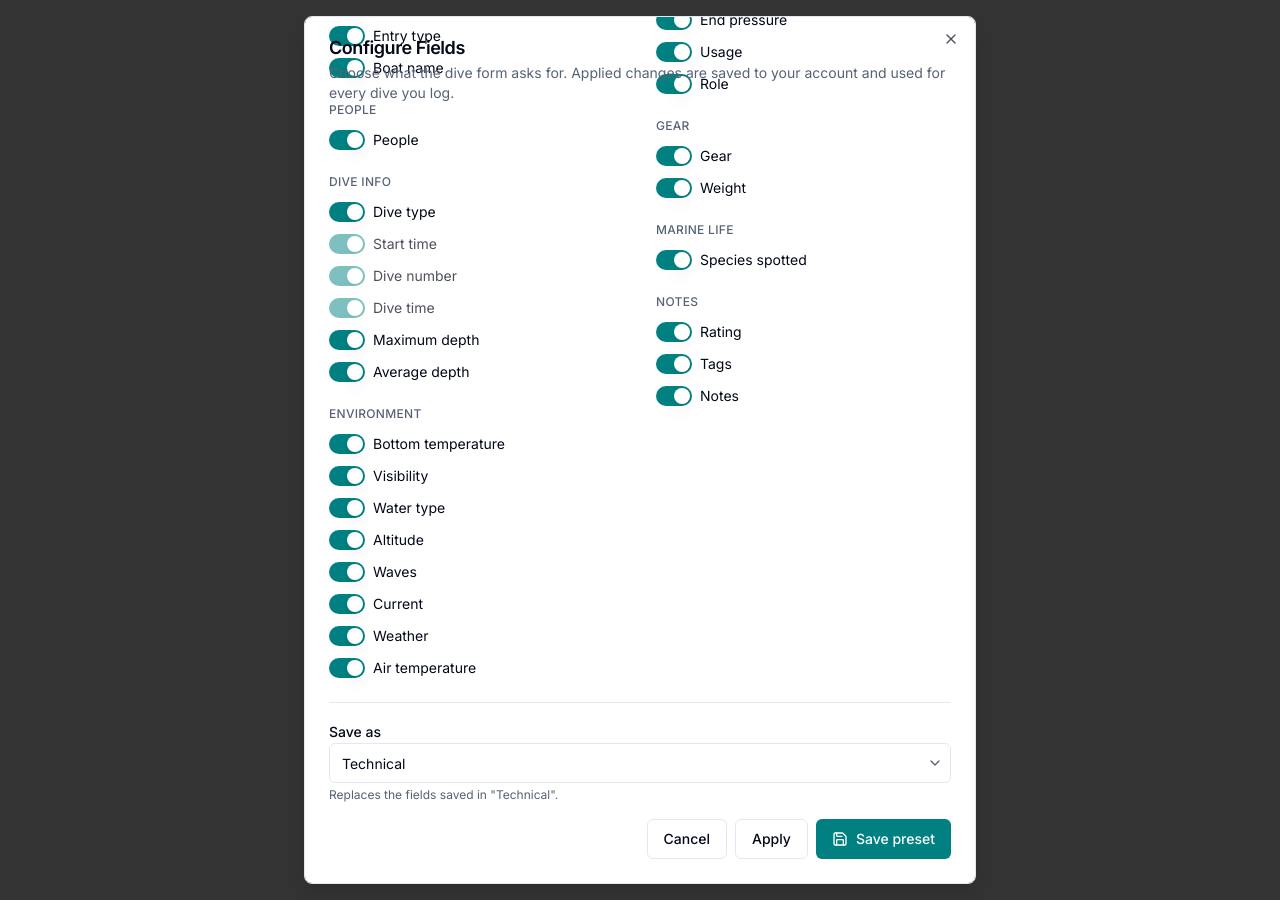
DiveFormFieldsDialog › closes only the Save as list on Escape, keeping the dialog and the draft
(page scrolled)
Click the switch named "Altitude" next to "Altitude": point(347, 540) top-left (329, 530), bottom-right (365, 550)
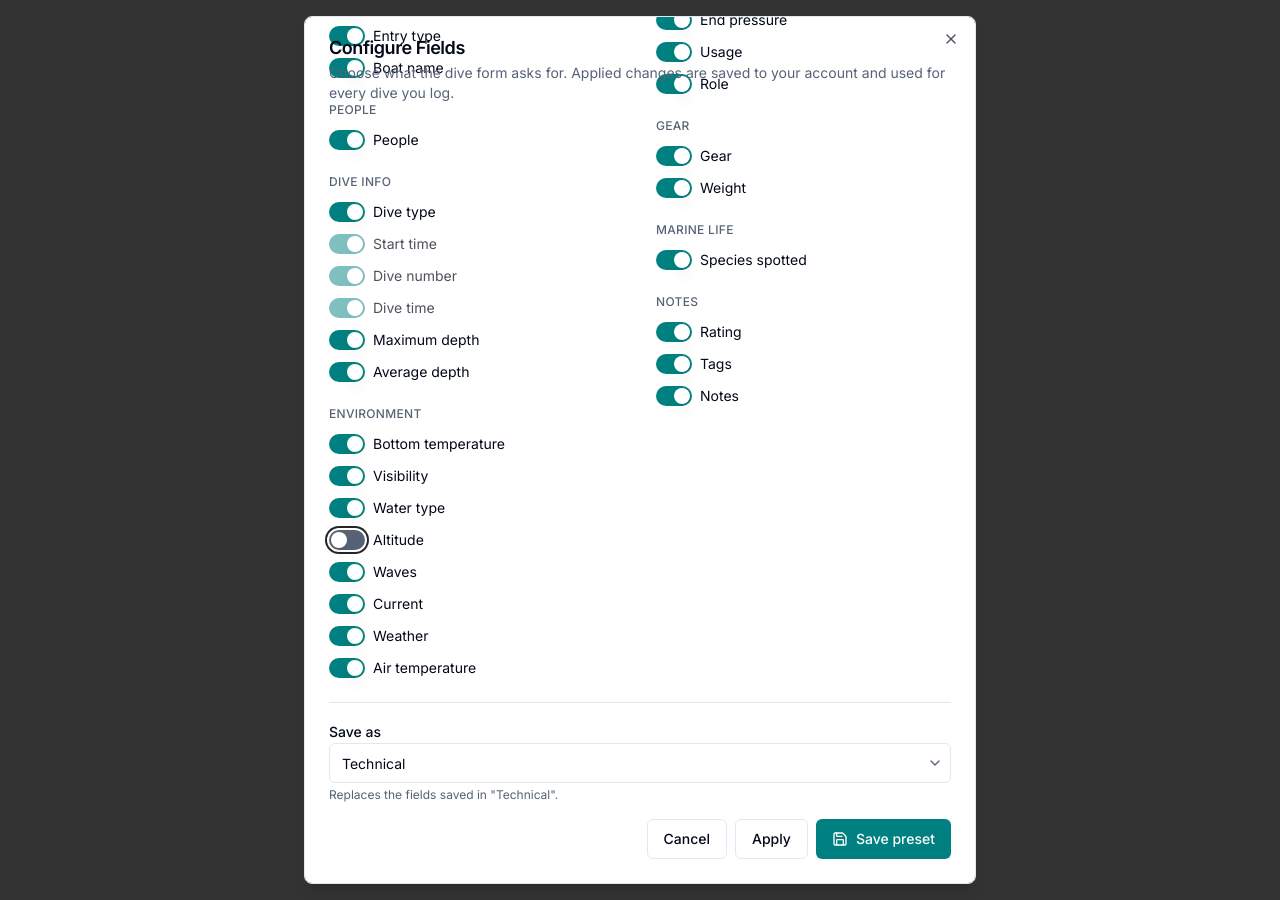
Click the dropdown labelled "Save as": point(640, 763) top-left (329, 743), bottom-right (951, 783)
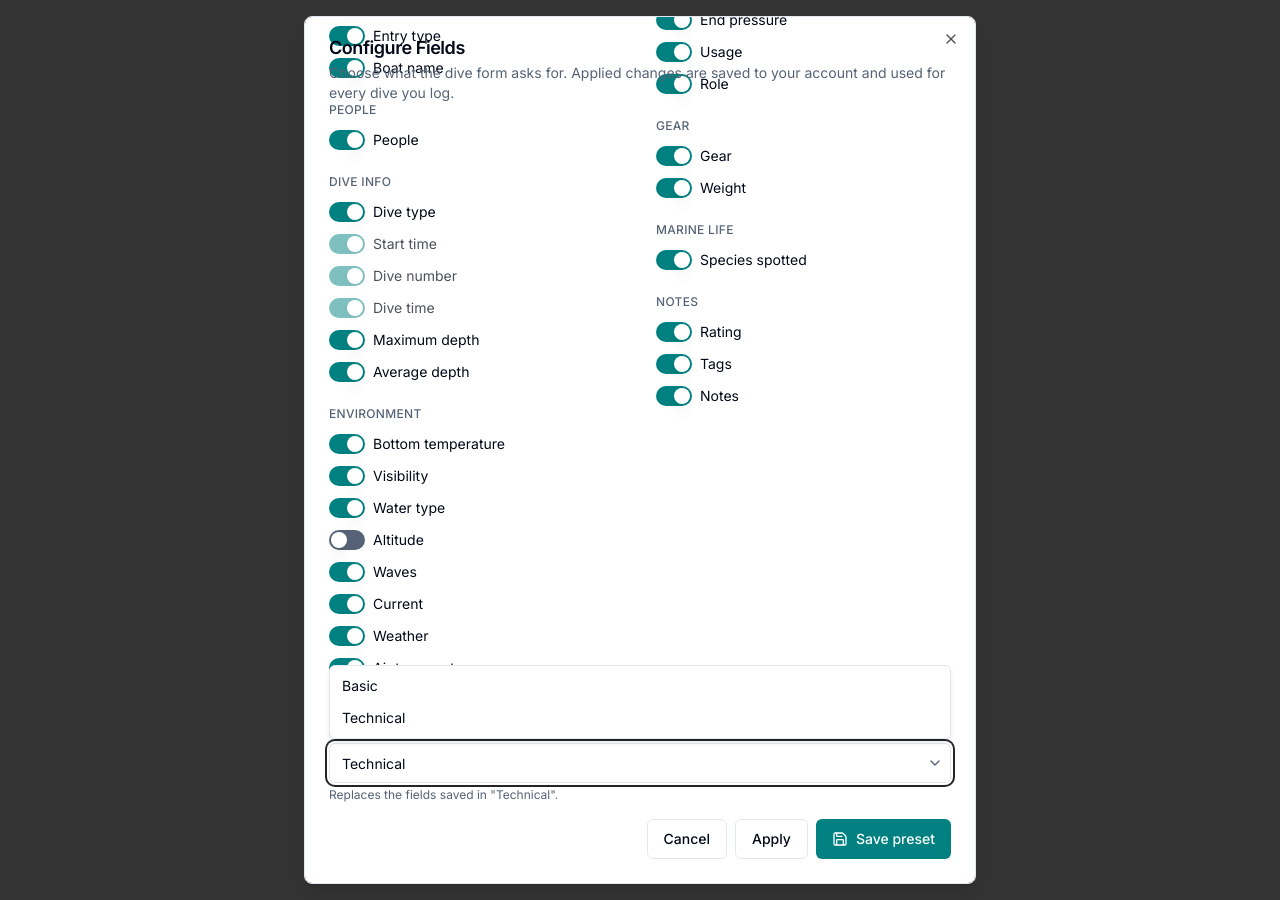
Press Escape
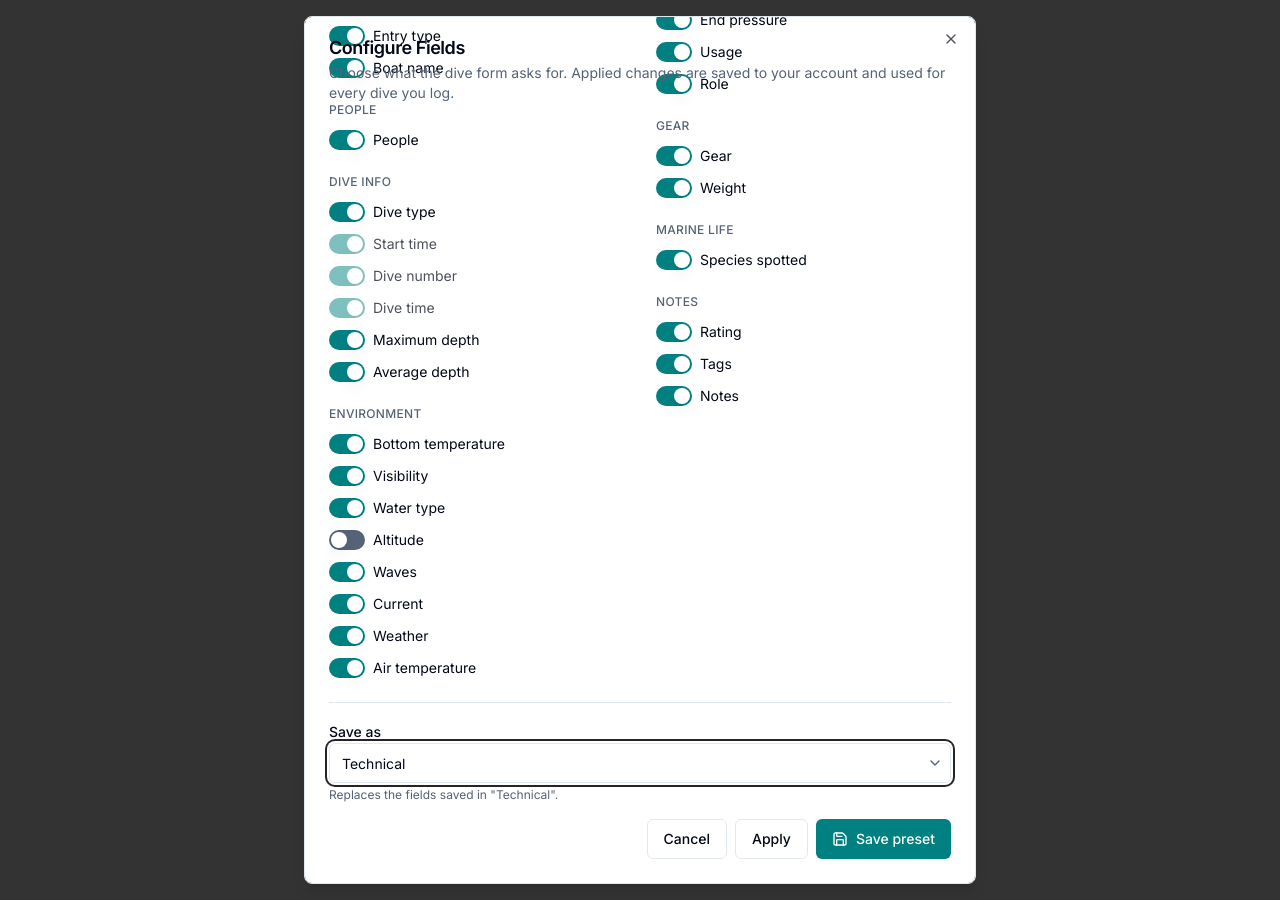
Now the switch named "Altitude" next to "Altitude" is not checked, box top-left (329, 530), bottom-right (365, 550)
Now the option is gone
